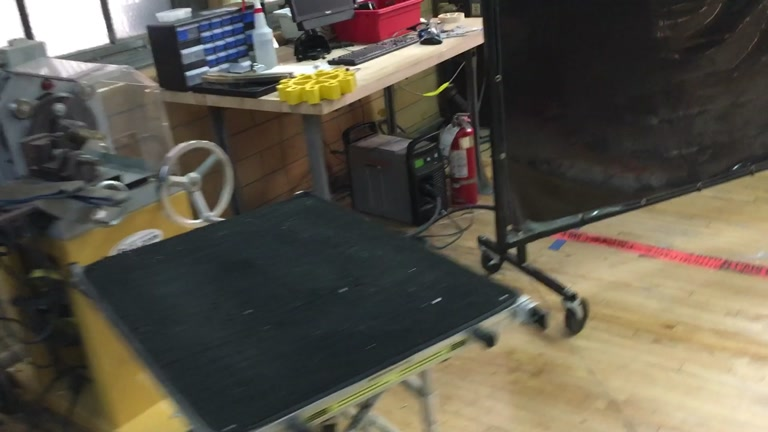gear: (275, 65, 356, 105)
